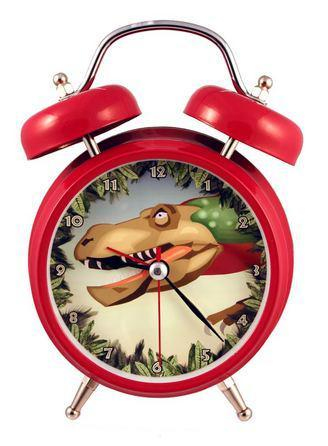clock: (11, 17, 304, 431)
